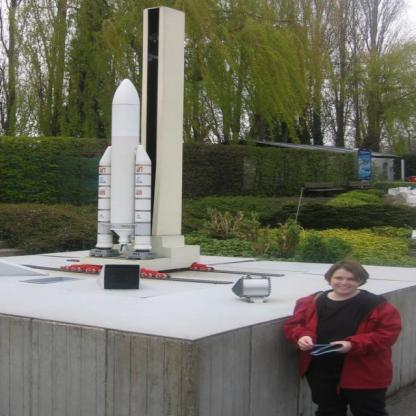MIL_TBM: (108, 79, 140, 234)
